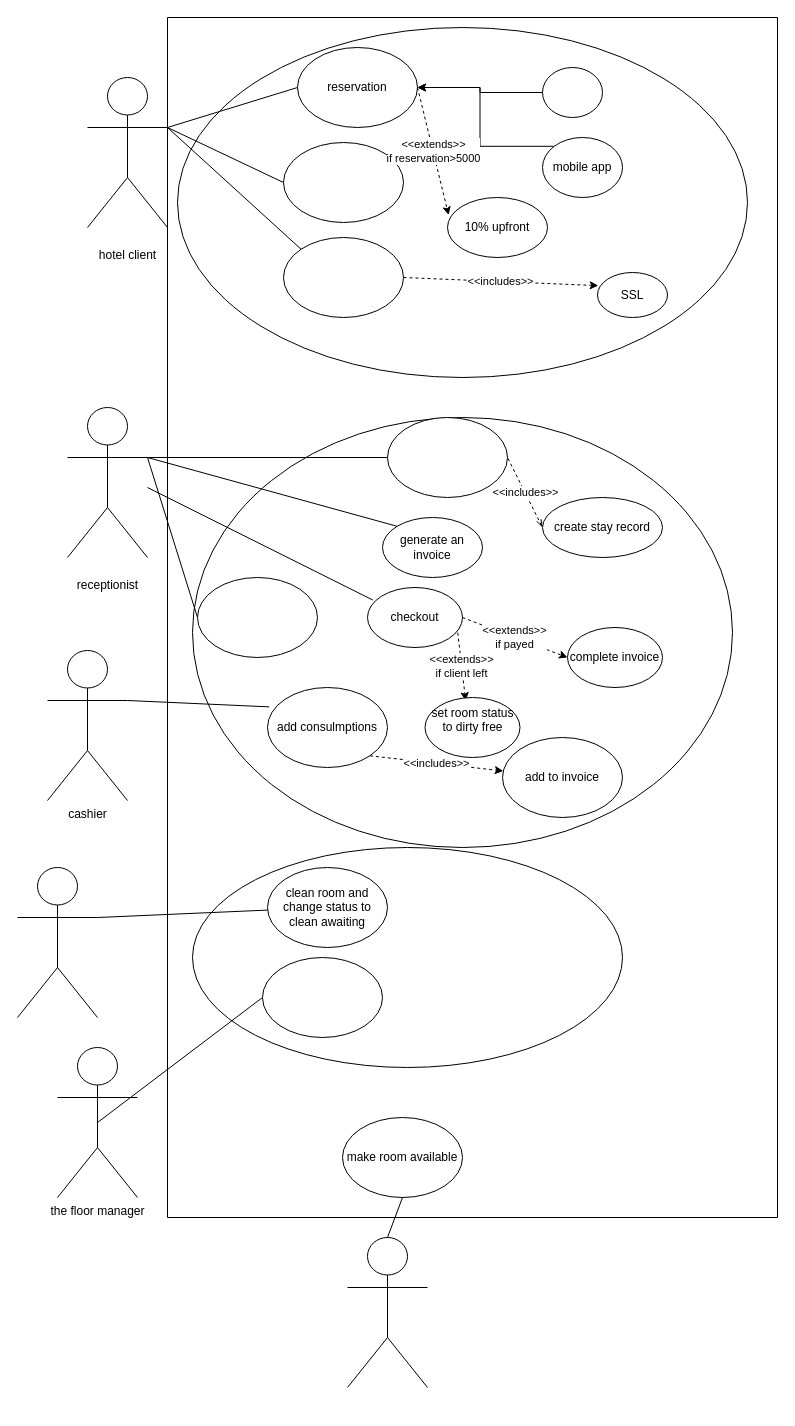
The diagram is 795 pixels wide and 1426 high, and some of its shapes have lost their labels. Here are the shapes that lost their labels. From the top down, the centre of each, then its label:
At point 572,92: "web".
At point 343,182: "add consumptions".
At point 343,277: "online payement".
At point 447,457: "checkin and check rooms and change status".
At point 257,617: "check res ervations".
At point 57,942: "Cleaning staff".
At point 322,997: "set room to unavailable if it needs maintenance".
At point 387,1312: "maintenance".
